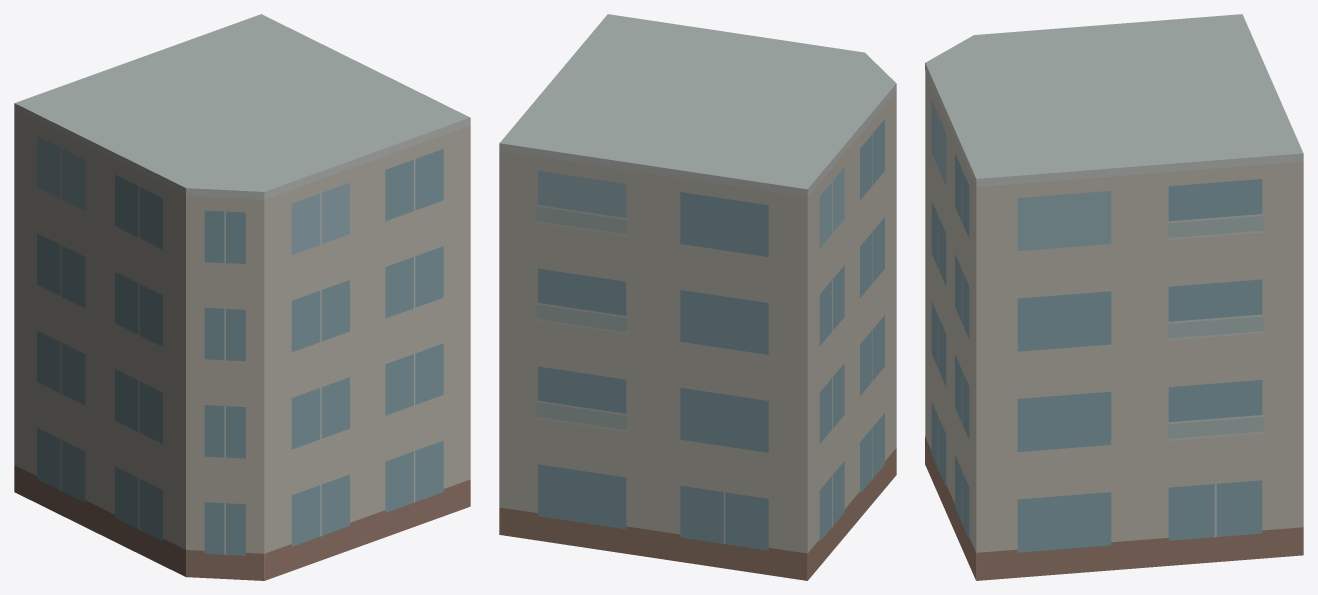
File: residential-894e82b0-c396-4e36-997f-f391dcadc395.glb
The picture shows the model from 3 angles, left to right: view 1: azimuth 30°, elevation 25°; view 2: azimuth 150°, elevation 25°; view 3: azimuth 270°, elevation 25°; orthographic projection. The views are drawn at different scales.
Visible parts, largest first — view 1: residential-894e82b0-c396-4e36-997f-f391dcadc395.tmp; view 2: residential-894e82b0-c396-4e36-997f-f391dcadc395.tmp; view 3: residential-894e82b0-c396-4e36-997f-f391dcadc395.tmp.
Part boxes in pixels (box(x1,y1,x2,y2)): residential-894e82b0-c396-4e36-997f-f391dcadc395.tmp: box(14, 14, 470, 580); residential-894e82b0-c396-4e36-997f-f391dcadc395.tmp: box(499, 14, 896, 580); residential-894e82b0-c396-4e36-997f-f391dcadc395.tmp: box(925, 14, 1303, 580).
Size of the model in its own units: 10.75 by 12.2 by 10.42.
